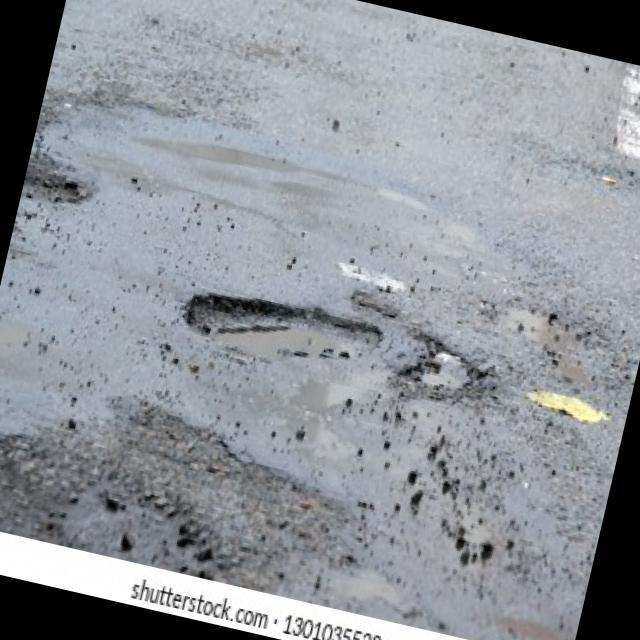Pothole: (176, 276, 386, 380), (411, 336, 481, 404)
